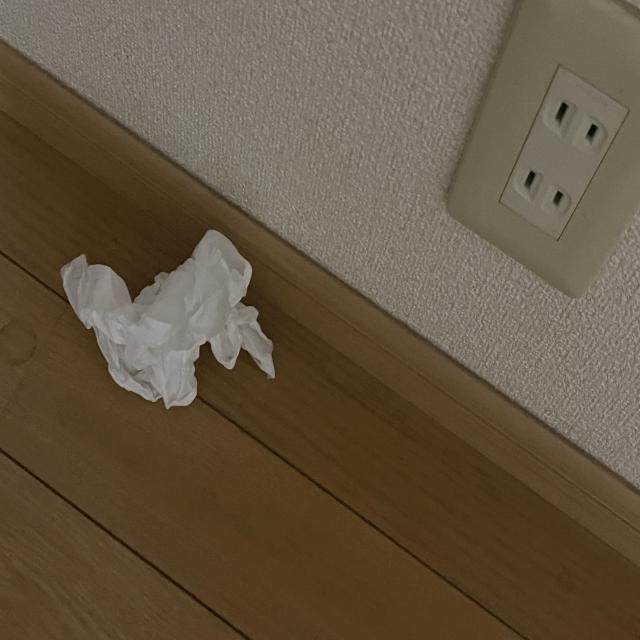衛生紙: (59, 227, 278, 409)
